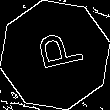P_W: (26, 31, 84, 79)
